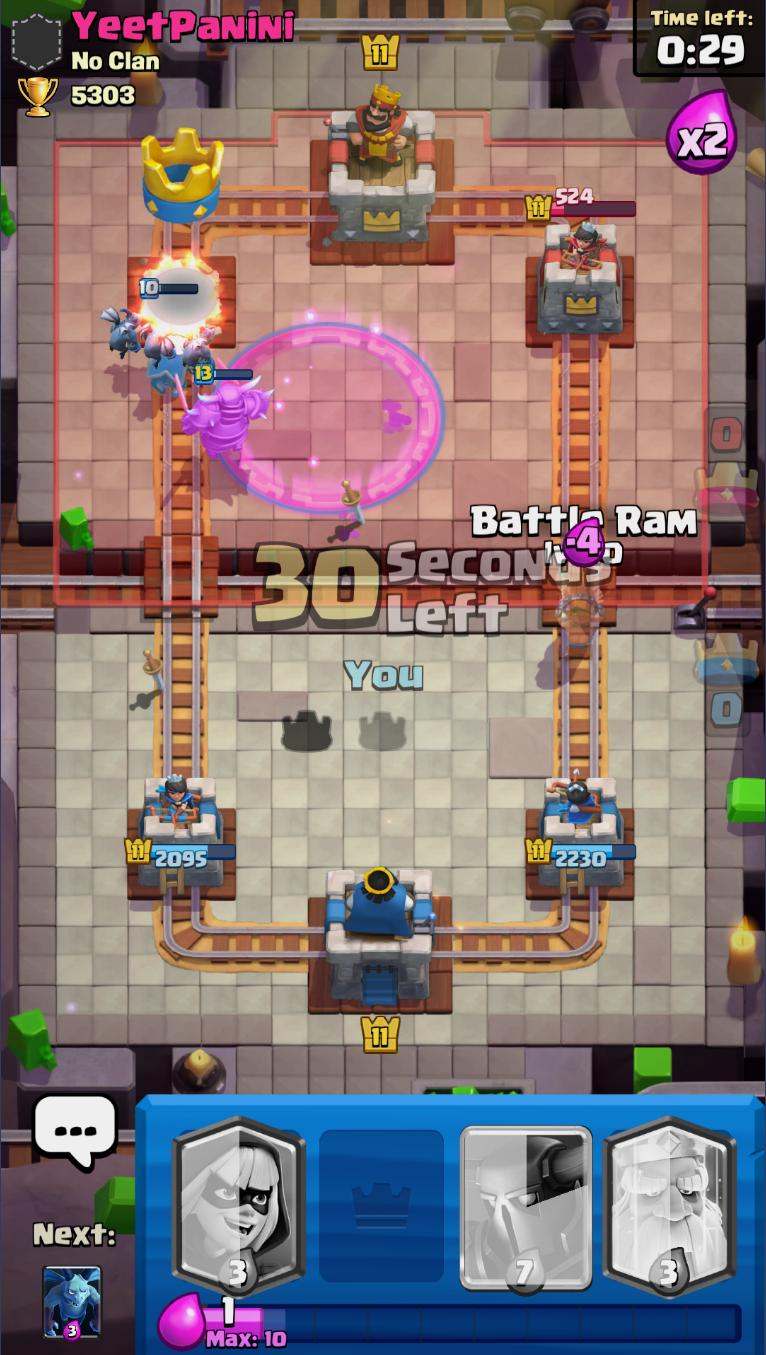BanditDeck: (167, 1095, 310, 1296)
Elixir: (203, 1295, 744, 1350)
Empty: (311, 1095, 455, 1296)
EnemyTower: (533, 214, 631, 331)
EnemyTowerBrocken: (125, 252, 236, 350)
EnemyTowerBrockenCrown: (139, 126, 226, 222)
KingTower: (326, 80, 443, 243)
MinionsNext: (41, 1264, 103, 1343)
MyKingTower: (326, 858, 440, 1000)
MyMinion: (101, 301, 147, 355), (179, 321, 221, 371), (135, 318, 177, 366)
MyPekka: (172, 365, 272, 462)
MyPrincessTower: (126, 768, 240, 886), (528, 770, 640, 886)
MyPrincessTowerHP: (126, 830, 239, 862), (527, 832, 640, 862)
MyRoyaleGhost: (138, 276, 197, 394)
PekkaDeck: (456, 1094, 598, 1295)
PrincessTower: (552, 213, 607, 267)
Rage: (213, 315, 446, 507)
RoyaleGhostDeck: (598, 1094, 742, 1296)
TowerPrincessHP: (527, 182, 640, 216)
